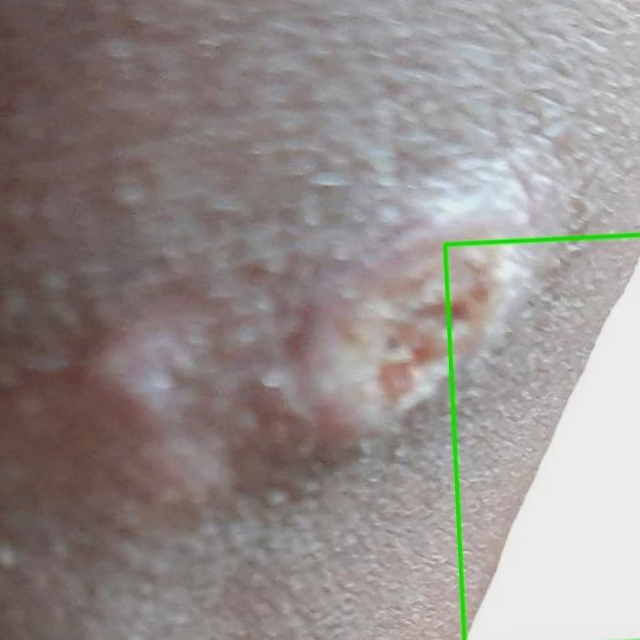Eczema: (444, 234, 639, 639)
